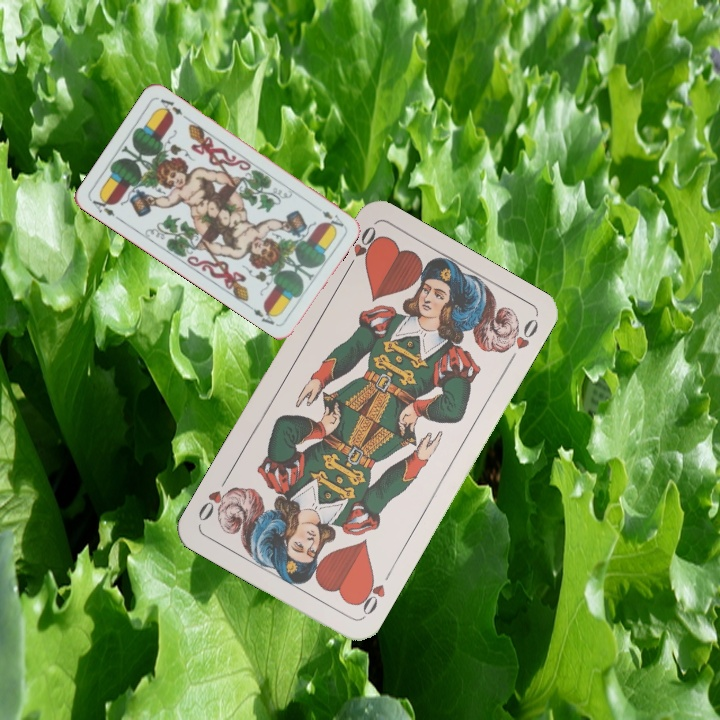EA: (88, 193, 124, 223), (310, 201, 347, 229)
HO: (353, 566, 394, 620), (341, 222, 381, 275)
